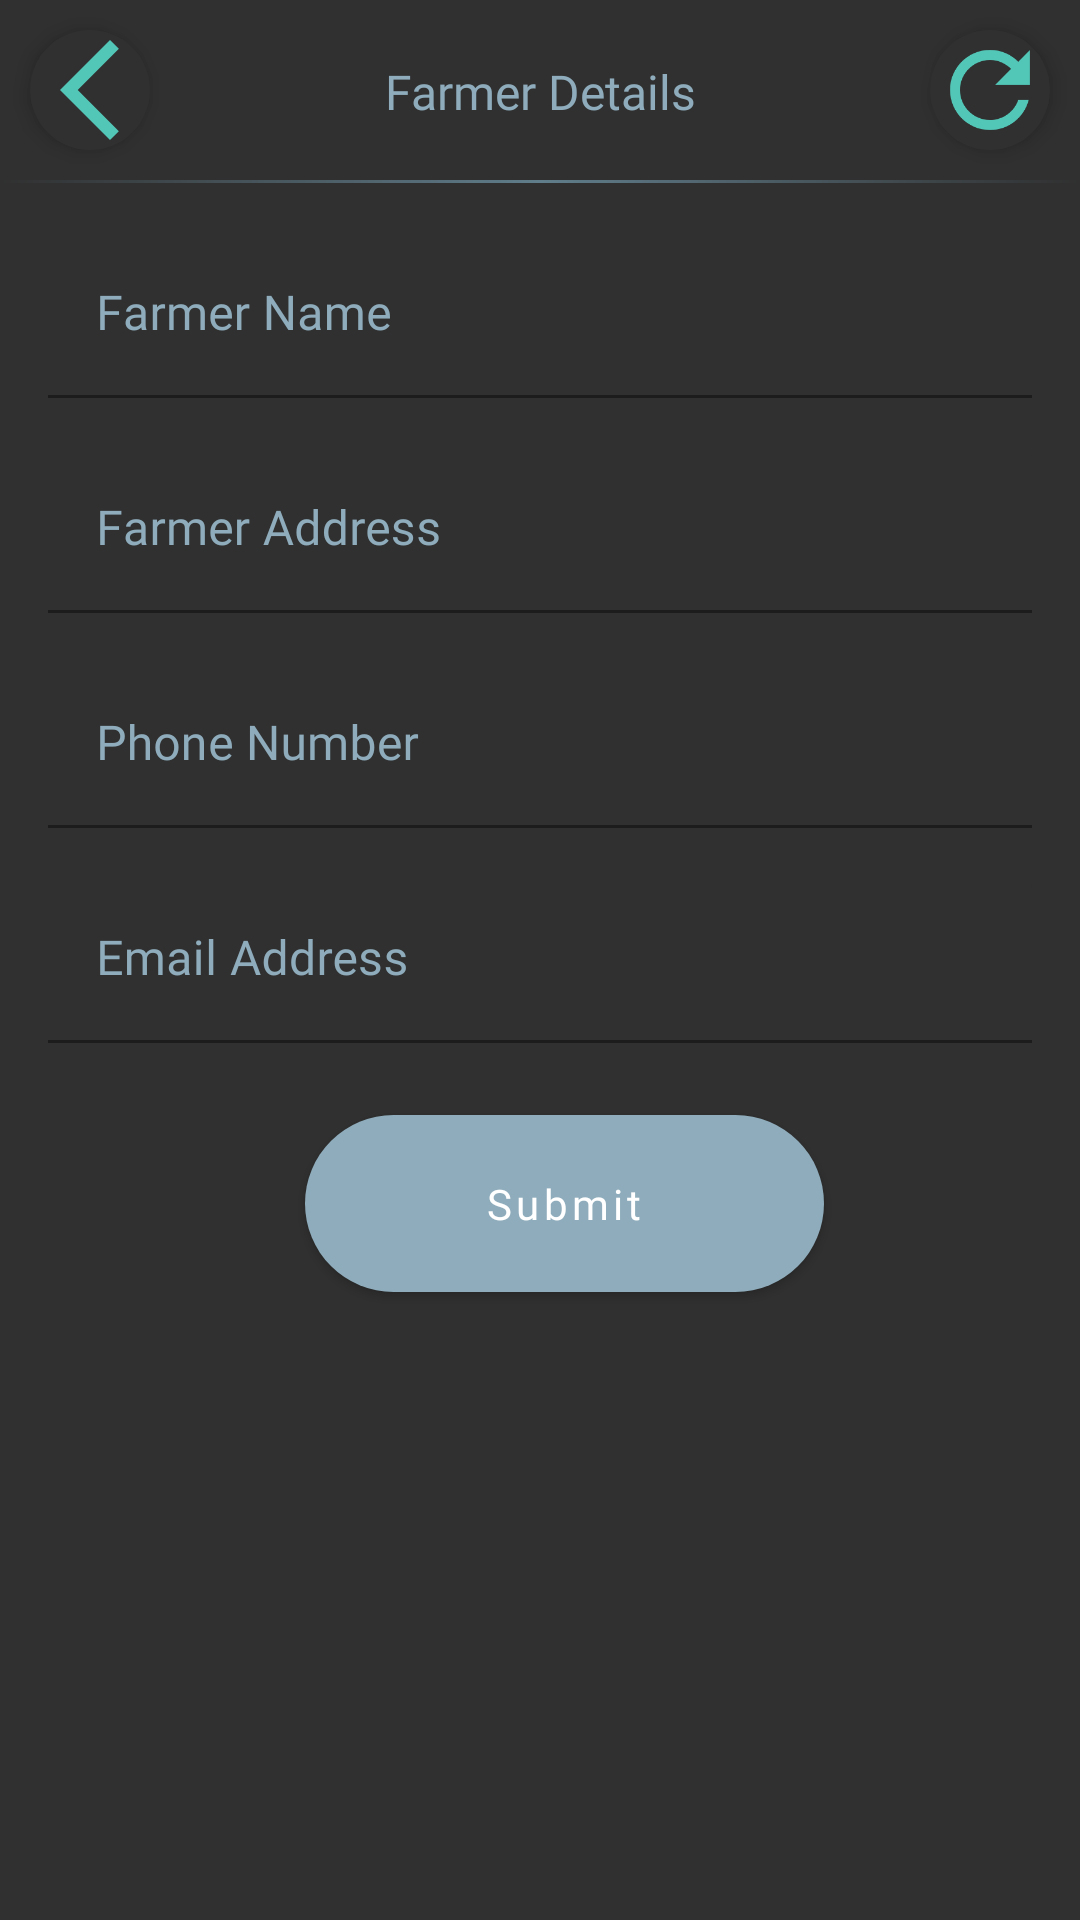

Named icons in this screenshot (1080px×1920px) and their centers, [x,y]:
Back: [89,90]
Reset: [990,90]
